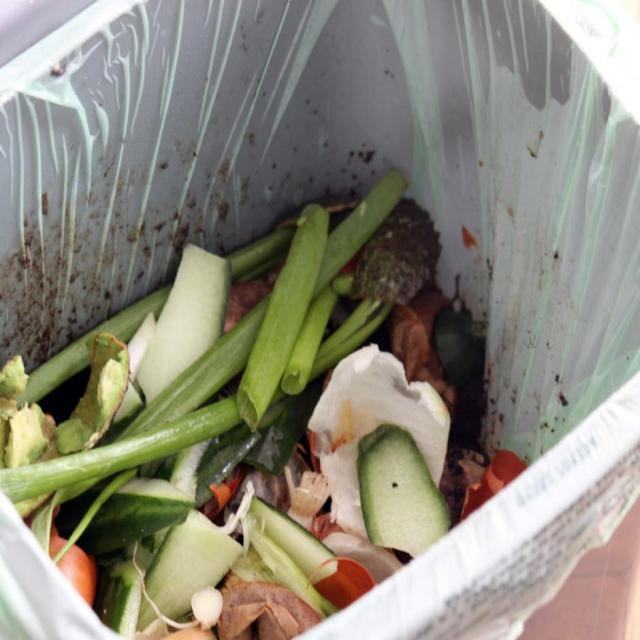Garbage: (0, 154, 534, 640)
